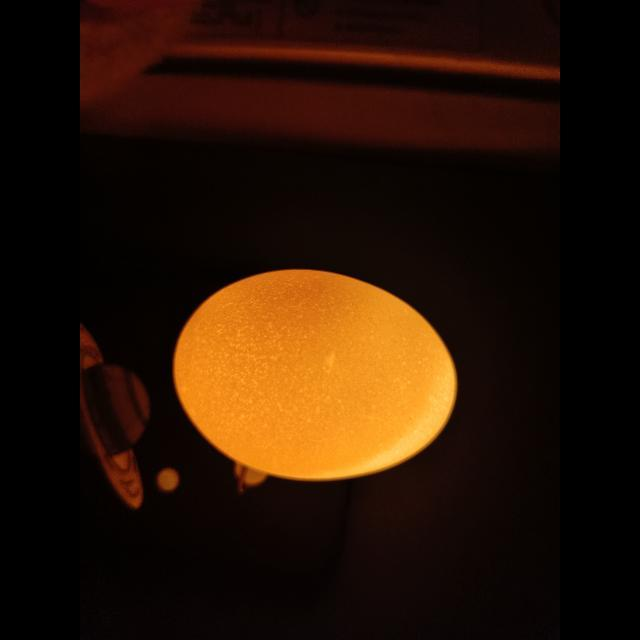AA - Premium: (174, 270, 456, 480)
